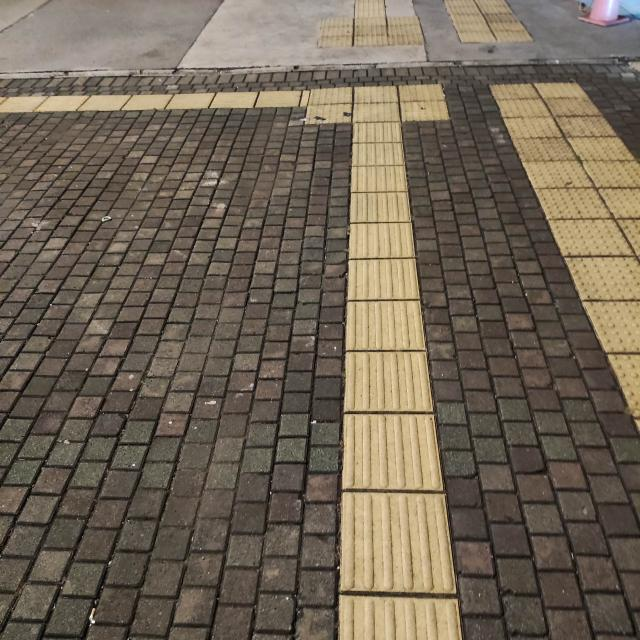kiri: (268, 67, 408, 149)
